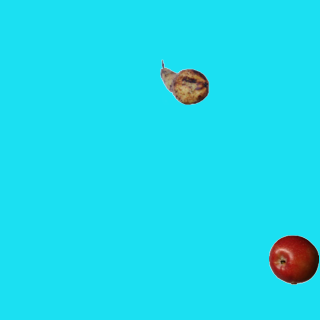Apple Braeburn: (268, 234, 318, 284)
Pear Abate: (159, 57, 209, 107)
